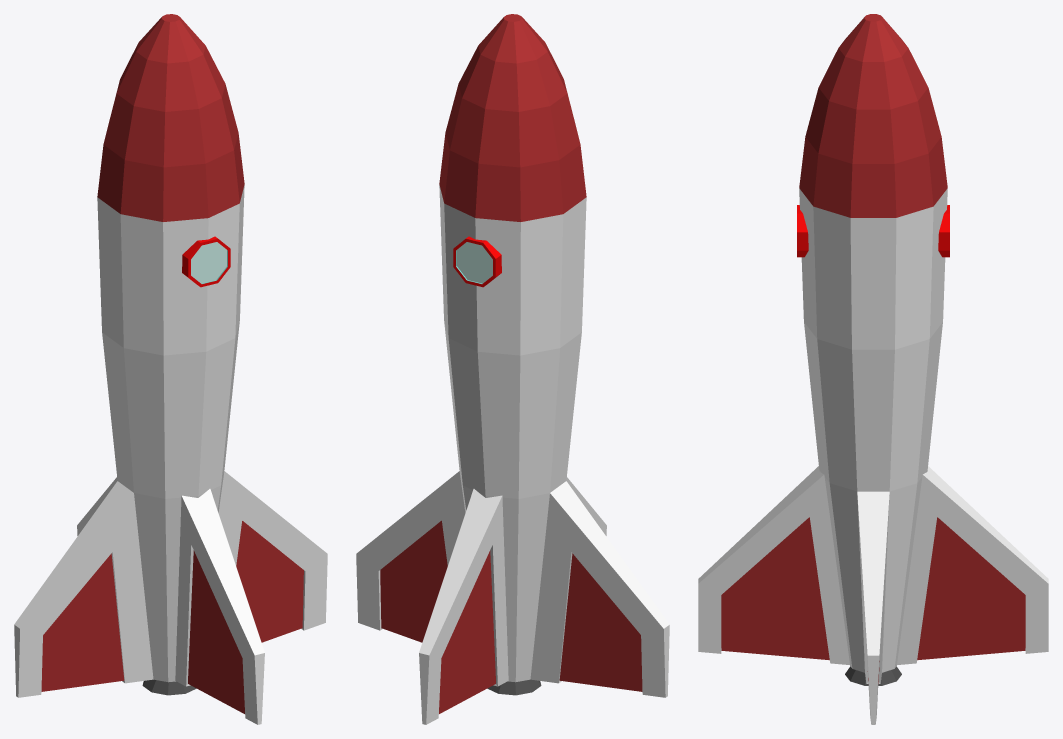
Rendered from rocket_obj.obj.
The picture shows the model from 3 angles, left to right: view 1: azimuth 30°, elevation 25°; view 2: azimuth 150°, elevation 25°; view 3: azimuth 270°, elevation 25°; orthographic projection.
Visible parts, largest first — view 1: Rocket_Cylinder.004; view 2: Rocket_Cylinder.004; view 3: Rocket_Cylinder.004.
Part boxes in pixels (x1,y1,x2,y2): Rocket_Cylinder.004: (14,14,327,724); Rocket_Cylinder.004: (356,14,669,724); Rocket_Cylinder.004: (698,14,1048,724).
Size of the model in its own units: 6.59 by 13.62 by 6.59.
Materials: 1 (1 with a texture image).
